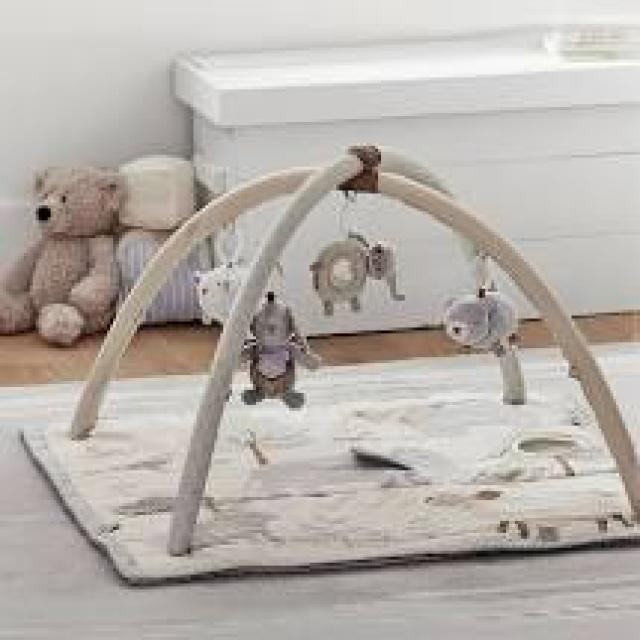soft-toy: (1, 170, 122, 345), (245, 292, 321, 409), (311, 235, 406, 315), (446, 289, 519, 349)
